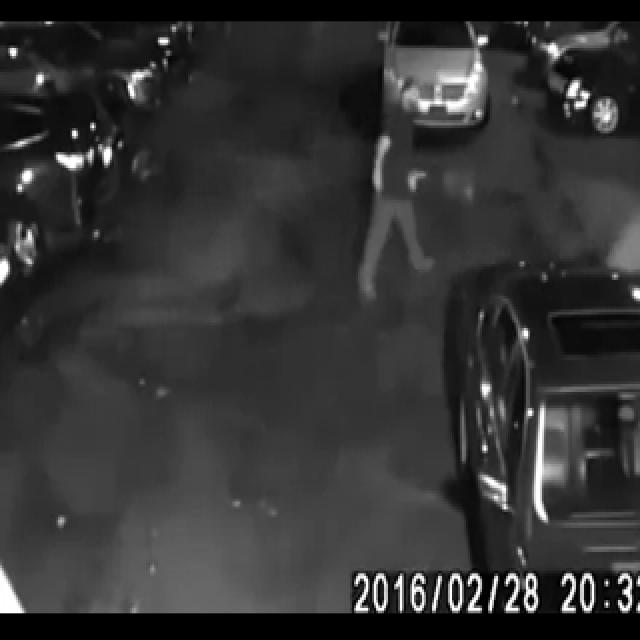shooting: (278, 86, 516, 315)
